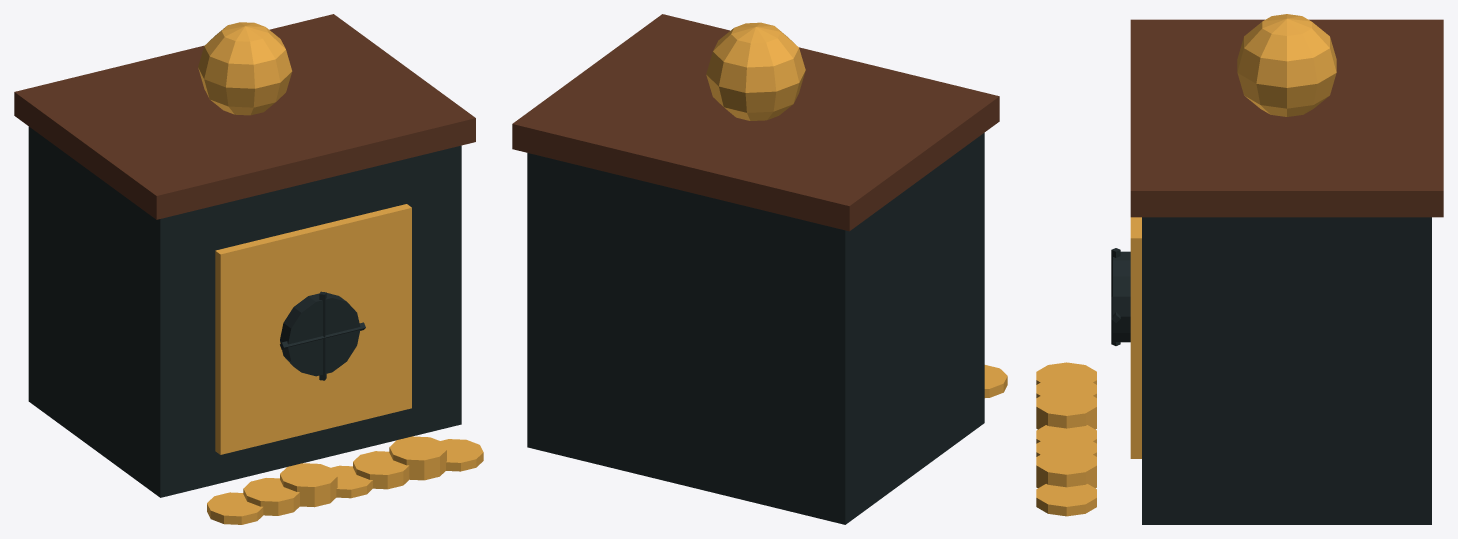
The model's file is ParkParkCoinVault.obj.
3 views of the same model, side by side, from view 1: azimuth 30°, elevation 25°; view 2: azimuth 150°, elevation 25°; view 3: azimuth 270°, elevation 25° (orthographic). The views are drawn at different scales.
Parts seen in each view (by area): view 1: ParkParkCoinVault; view 2: ParkParkCoinVault; view 3: ParkParkCoinVault.
Boxes of the visible parts, left/top/right/bottom form: ParkParkCoinVault: left=14, top=14, right=483, bottom=524; ParkParkCoinVault: left=512, top=14, right=1007, bottom=524; ParkParkCoinVault: left=1036, top=14, right=1443, bottom=524.
Bounding box in the file's own units: 7 × 8.1 × 7.02.
